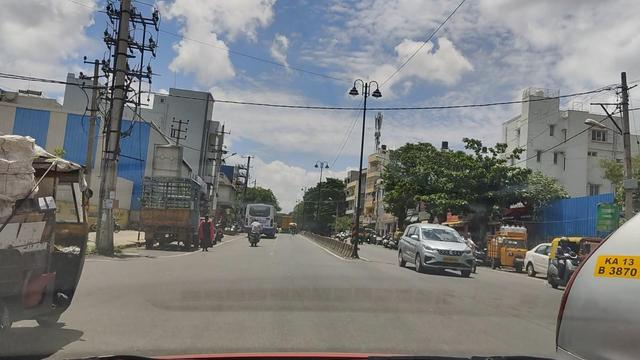LMV: (0, 136, 94, 341)
